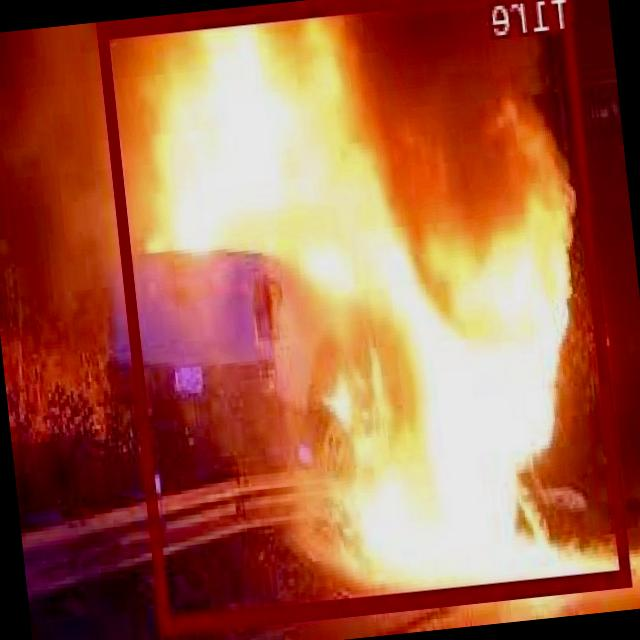fire: (100, 0, 632, 632)
